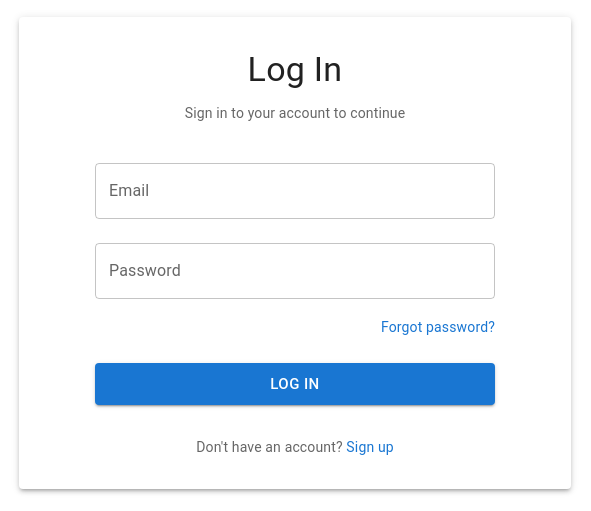
Test: LoginPage - Integration Tests › Loading States › should show loading state during login
Type "test@example.com" into the field labelled "Email" at x=295, y=191, box [95,163,495,219]
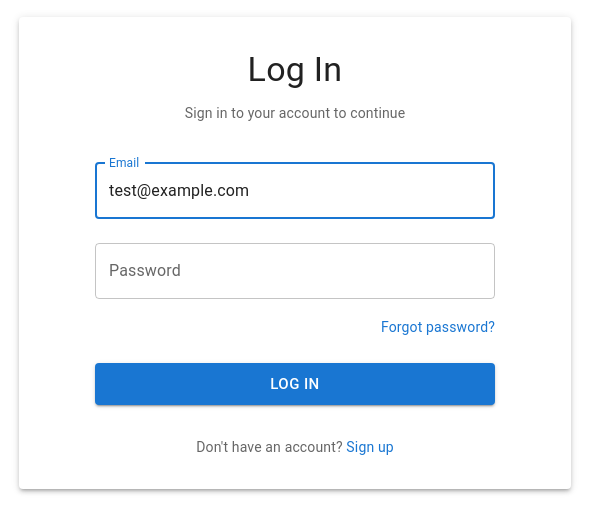
Type "password" into the password field labelled "Password" at x=295, y=271, box [95,243,495,299]
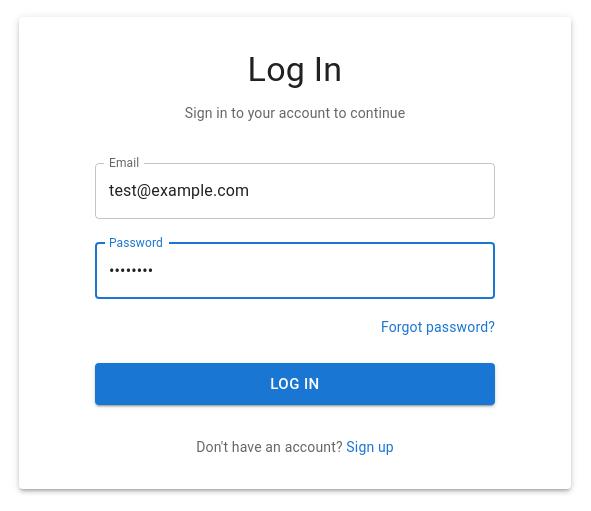
Click the button "Log In" at x=295, y=384, box [95,363,495,405]
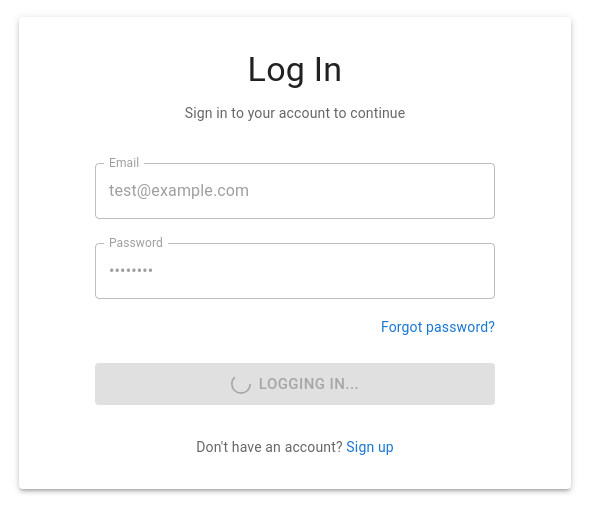
expect the button "Logging in..." is shown: met, box [95,363,495,405]
